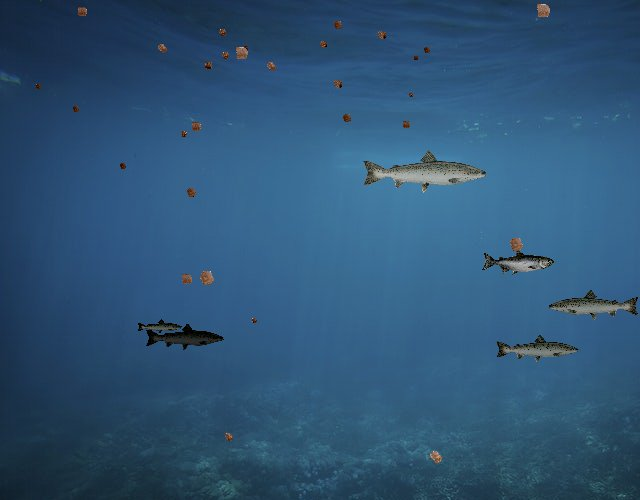Fish: (360, 148, 489, 194), (548, 289, 640, 322), (494, 333, 580, 364), (144, 322, 225, 351), (481, 249, 554, 275), (136, 318, 183, 335)
Pellet: (192, 262, 222, 293), (422, 444, 449, 471), (175, 268, 198, 291), (372, 26, 391, 45), (220, 428, 238, 446), (176, 127, 191, 142), (116, 159, 130, 173), (248, 315, 260, 327)
